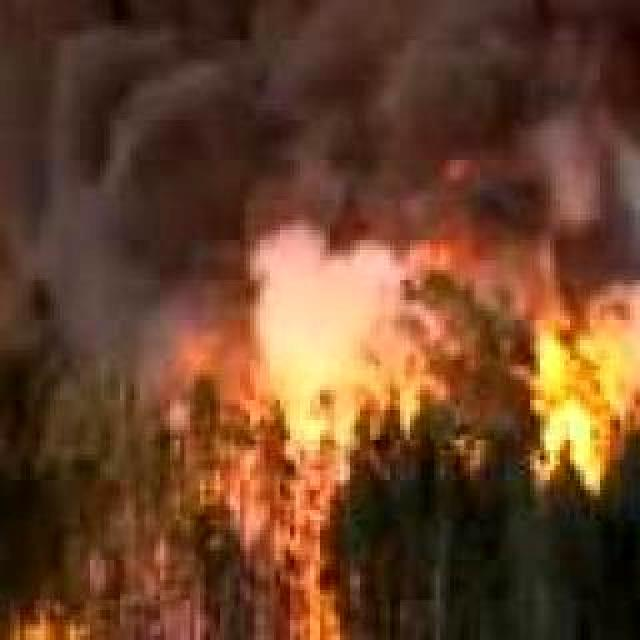fire: (524, 300, 640, 494), (264, 476, 376, 640), (0, 608, 132, 640)
